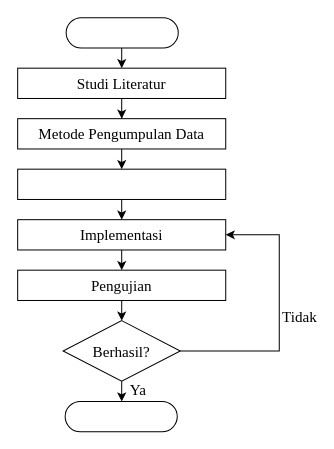
Image size: 334x449. Some labels were removed from this diagram. The centre of each missing label's shape, as x and y in pixels:
Mulai: pixel 121 32
Perancangan Sistem: pixel 121 183
Selesai: pixel 120 416
